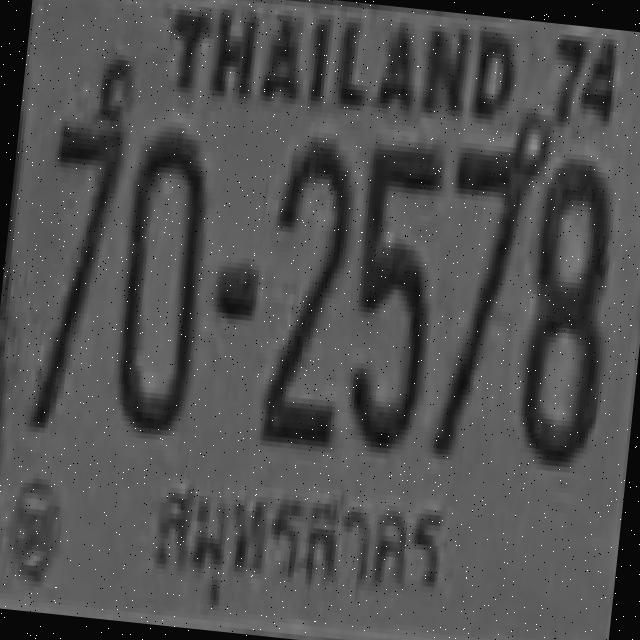0: (106, 124, 212, 432)
2: (255, 134, 358, 442)
5: (339, 140, 442, 448)
7: (424, 124, 541, 458), (24, 92, 127, 430)
8: (512, 153, 618, 461)
SamutSakhon: (146, 460, 465, 636)
